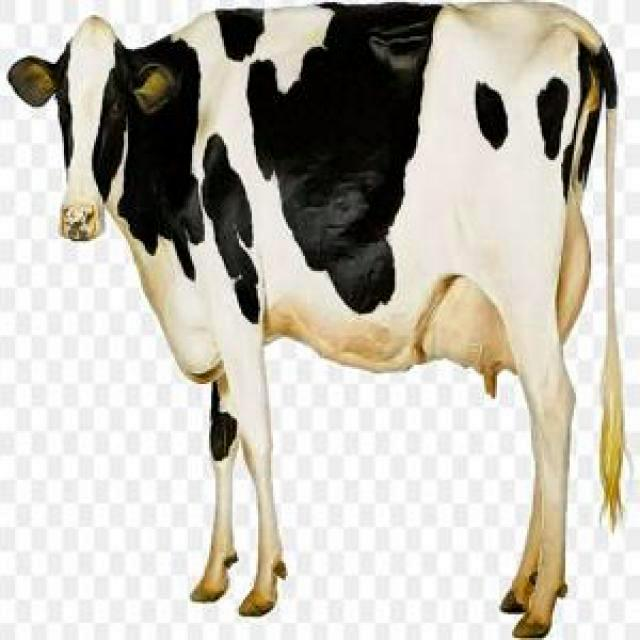COW: (9, 4, 624, 639)
